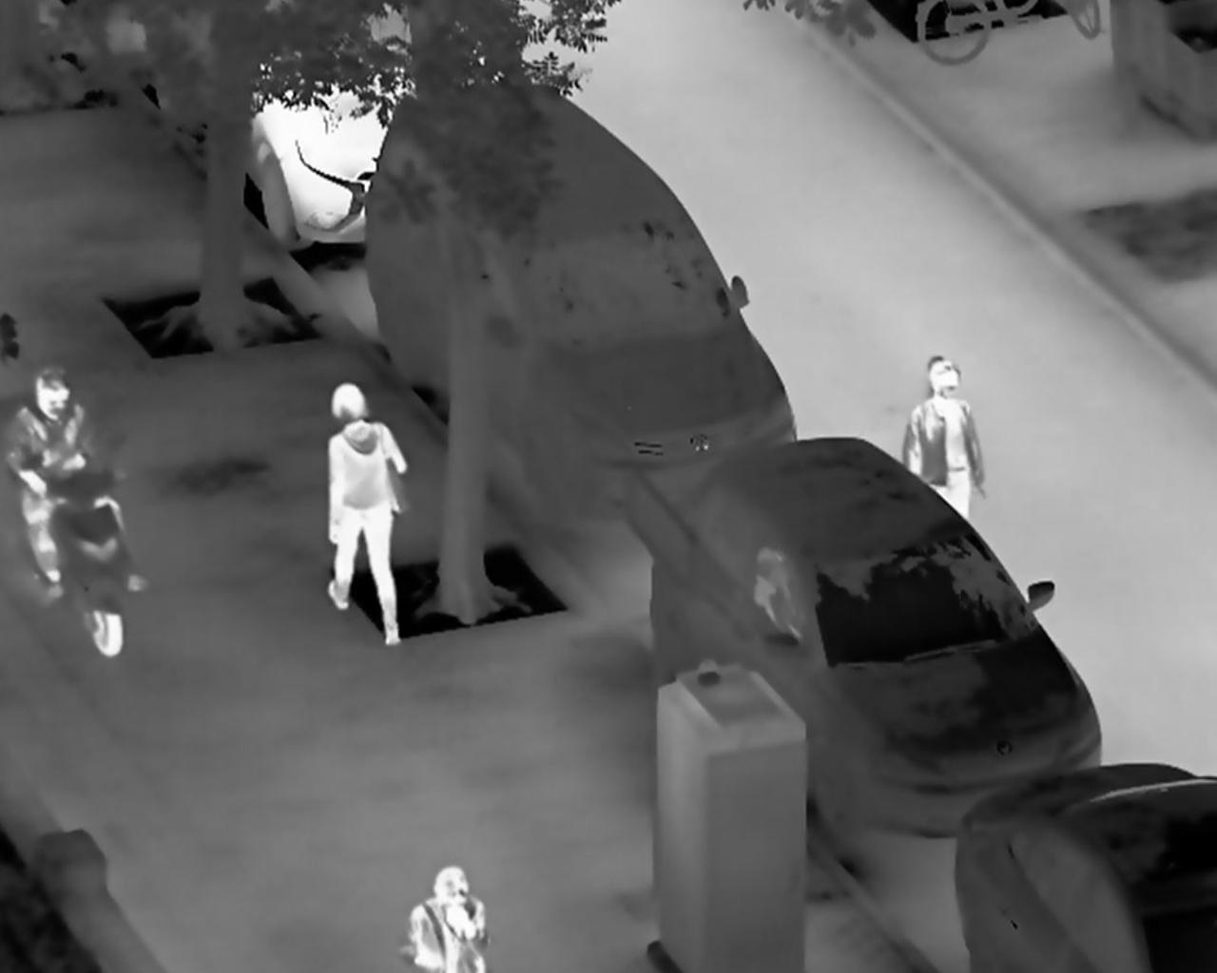person: (4, 366, 149, 599), (319, 380, 414, 650), (899, 353, 993, 533), (403, 860, 497, 973)
